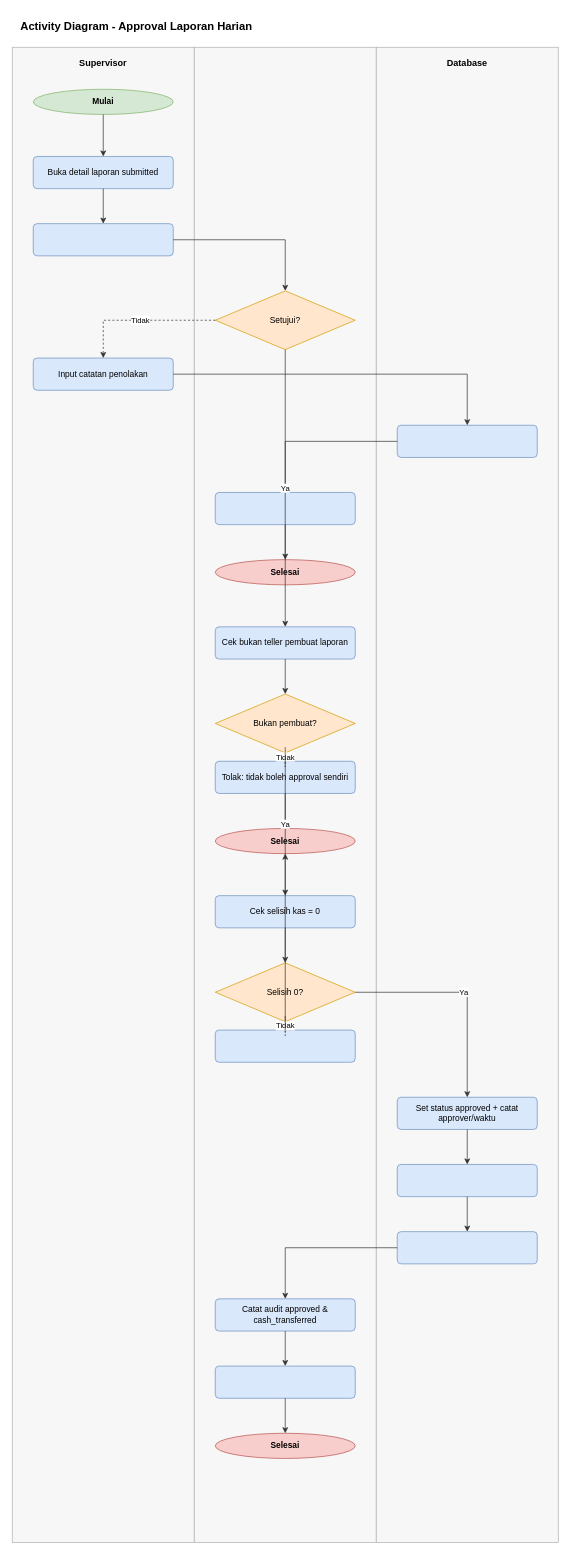
This 571x1555 diagram has some shape labels left out. Each missing label, with the box of its shape:
Arsipkan laporan: (215, 1365, 355, 1398)
Catat audit daily_report_rejected: (215, 492, 355, 525)
Catat CashTransfer (Laci -> Brankas): (397, 1164, 537, 1197)
Periksa transaksi, kas, bukti fisik: (33, 223, 173, 256)
Post jurnal (Debet 102, Kredit 101): (397, 1231, 537, 1264)
Set status rejected: (397, 425, 537, 457)
Sistem: (194, 47, 376, 1542)
Tolak: laporan berselisih: (215, 1029, 355, 1062)
